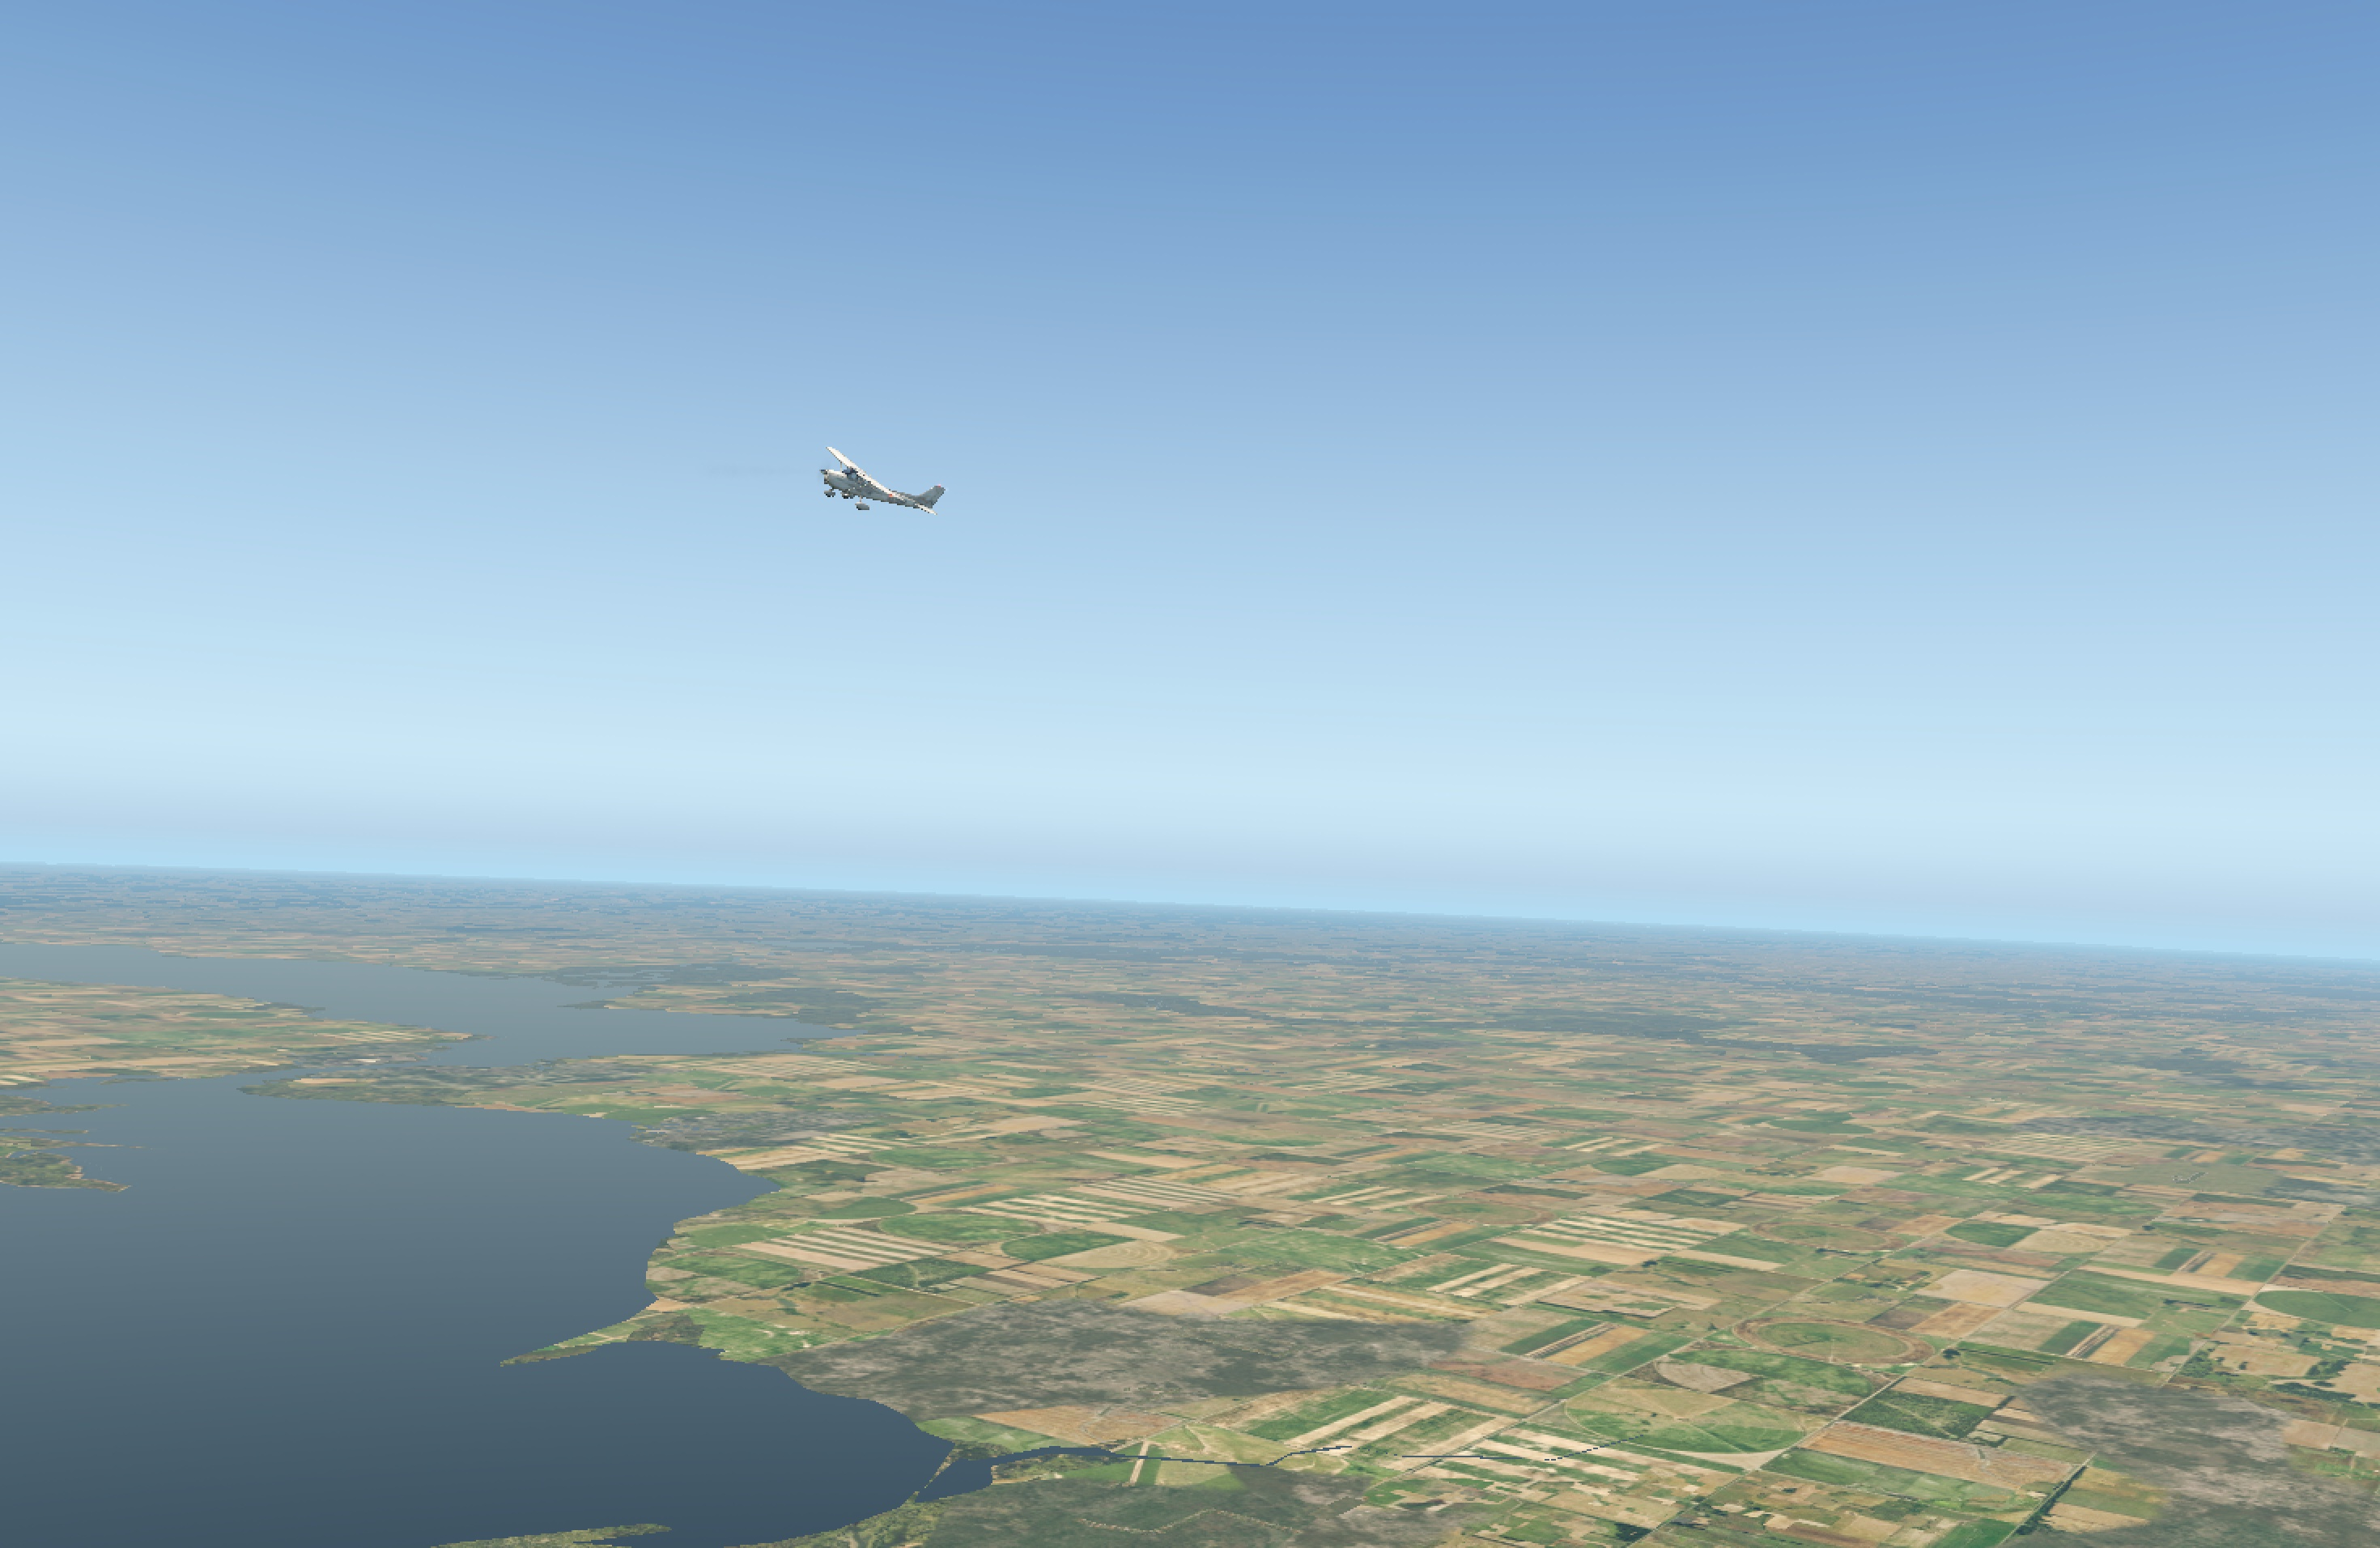aircraft: (791, 458, 919, 507)
